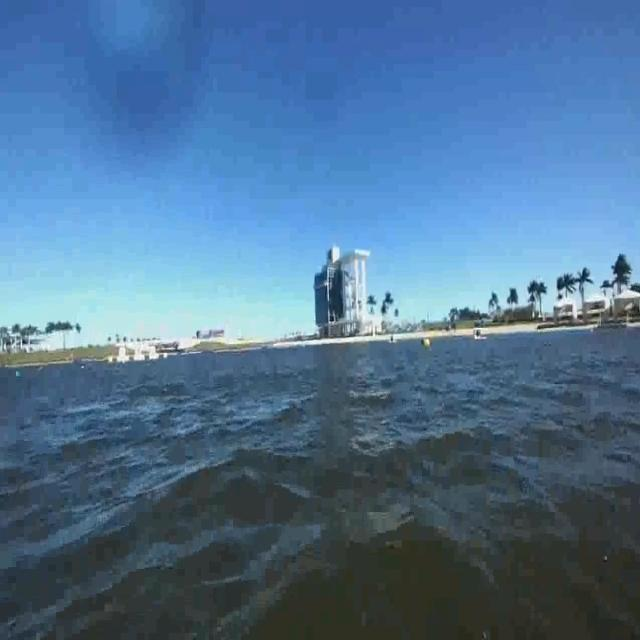yellow-buoy: (423, 338, 431, 351)
